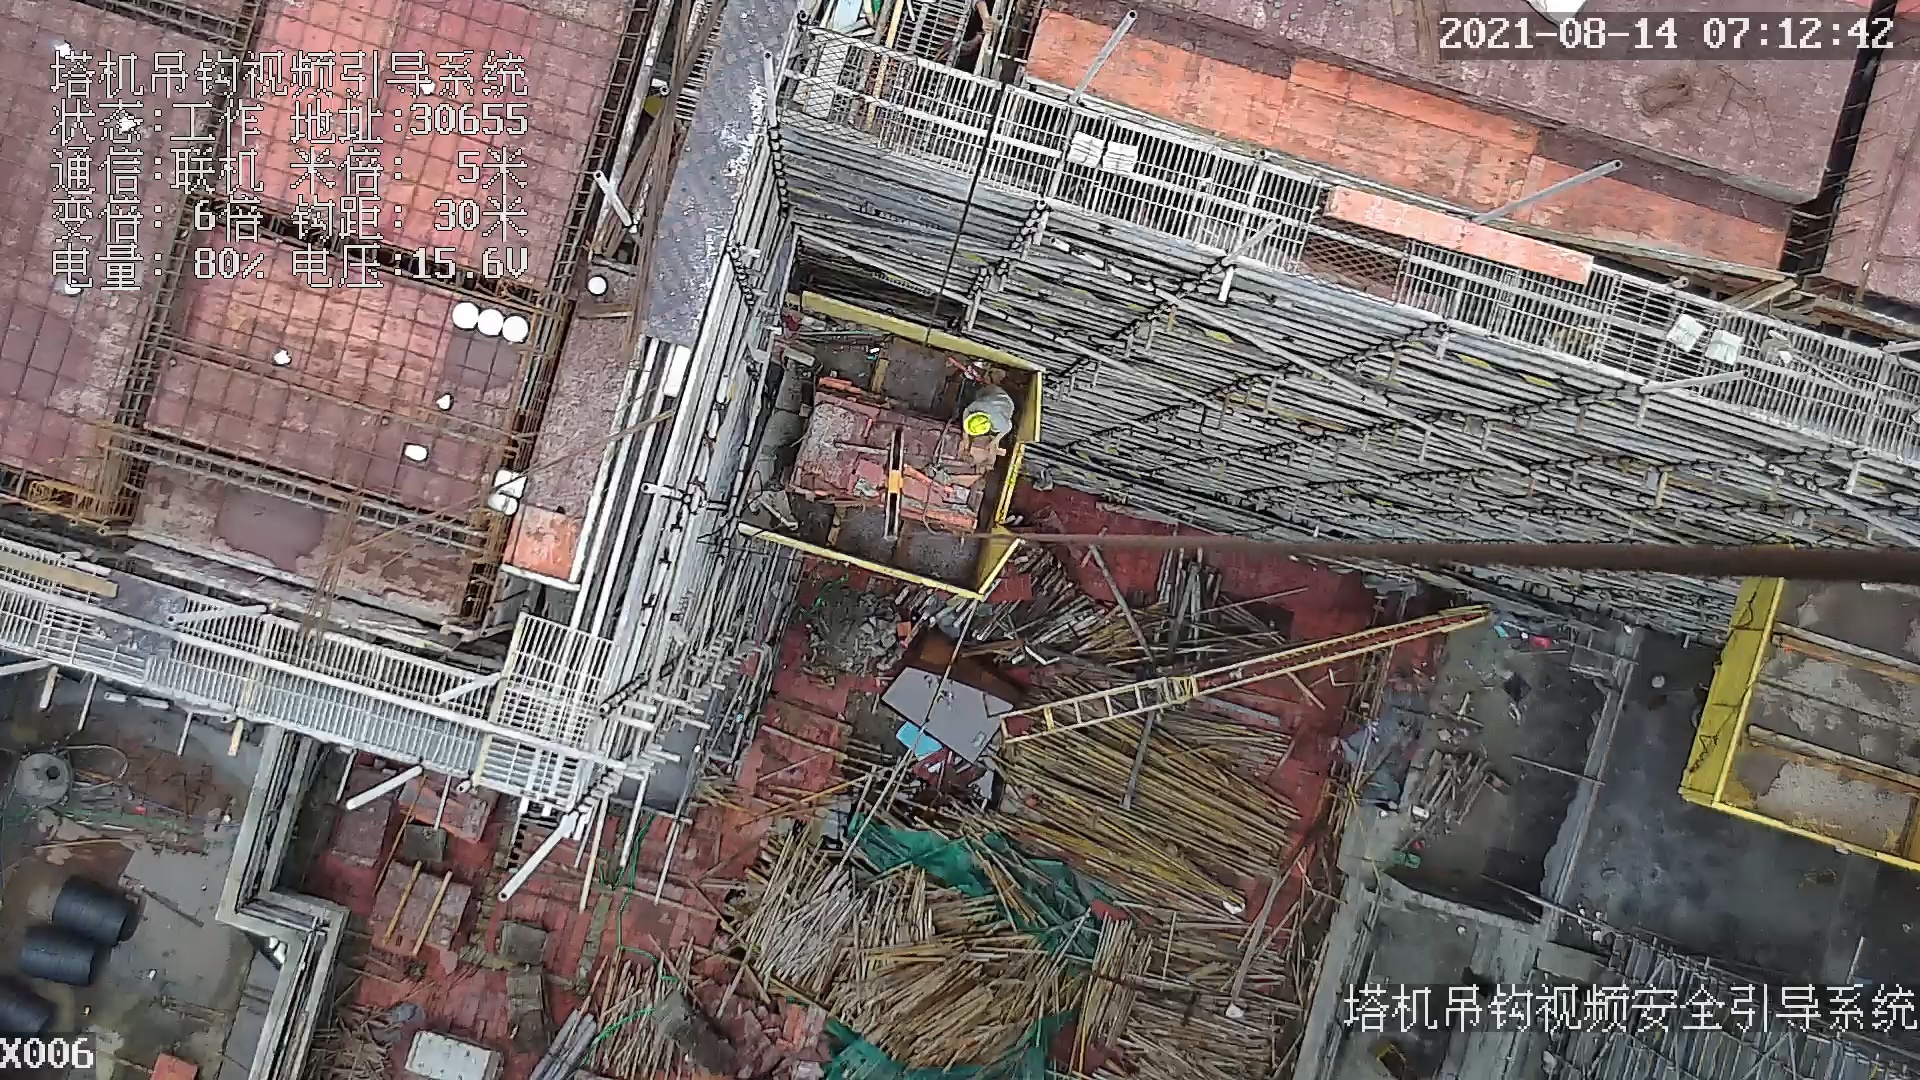helmet: (958, 405, 995, 438)
hook: (877, 424, 912, 545)
person: (947, 380, 1013, 459)
